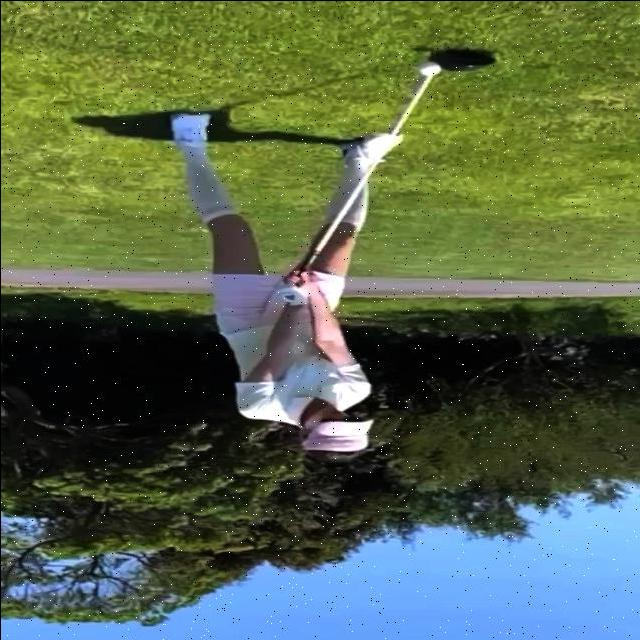golf ball: (415, 60, 441, 75)
golf club-handle: (296, 47, 498, 275)
golf club-head: (435, 48, 495, 70)
